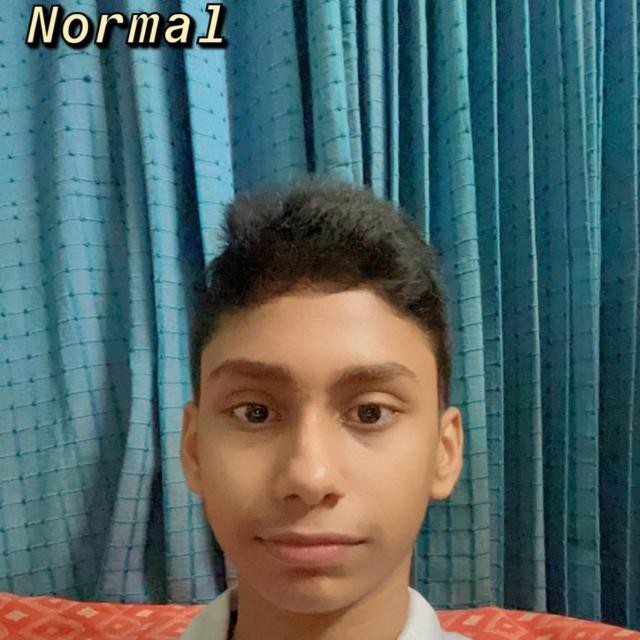Natural: (173, 208, 485, 622)
